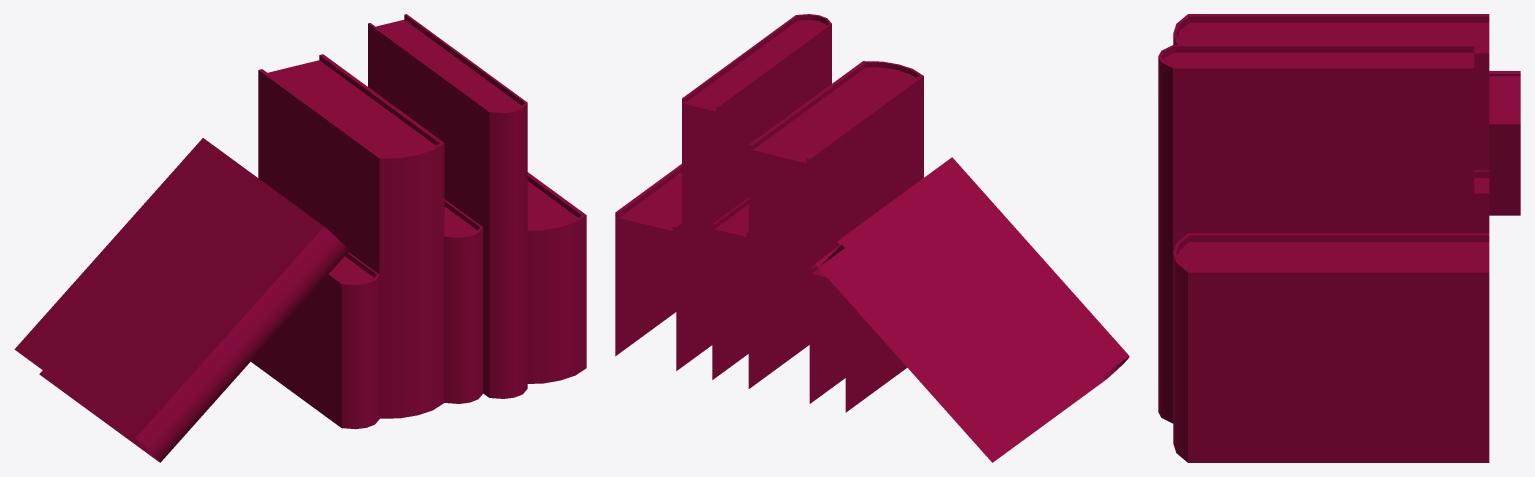
Rendered from HalloweenRoomA_BooksN.fbx.
The picture shows the model from 3 angles, left to right: view 1: azimuth 30°, elevation 25°; view 2: azimuth 150°, elevation 25°; view 3: azimuth 270°, elevation 25°; orthographic projection. The views are drawn at different scales.
Parts seen in each view (by area): view 1: HalloweenRoomA_BooksN; view 2: HalloweenRoomA_BooksN; view 3: HalloweenRoomA_BooksN.
Boxes of the visible parts, x1,y1,x2,y2 form: HalloweenRoomA_BooksN: (14,14,586,462); HalloweenRoomA_BooksN: (615,14,1129,462); HalloweenRoomA_BooksN: (1158,14,1520,462).
Size of the model in its own units: 54.41 by 34.26 by 31.36.
